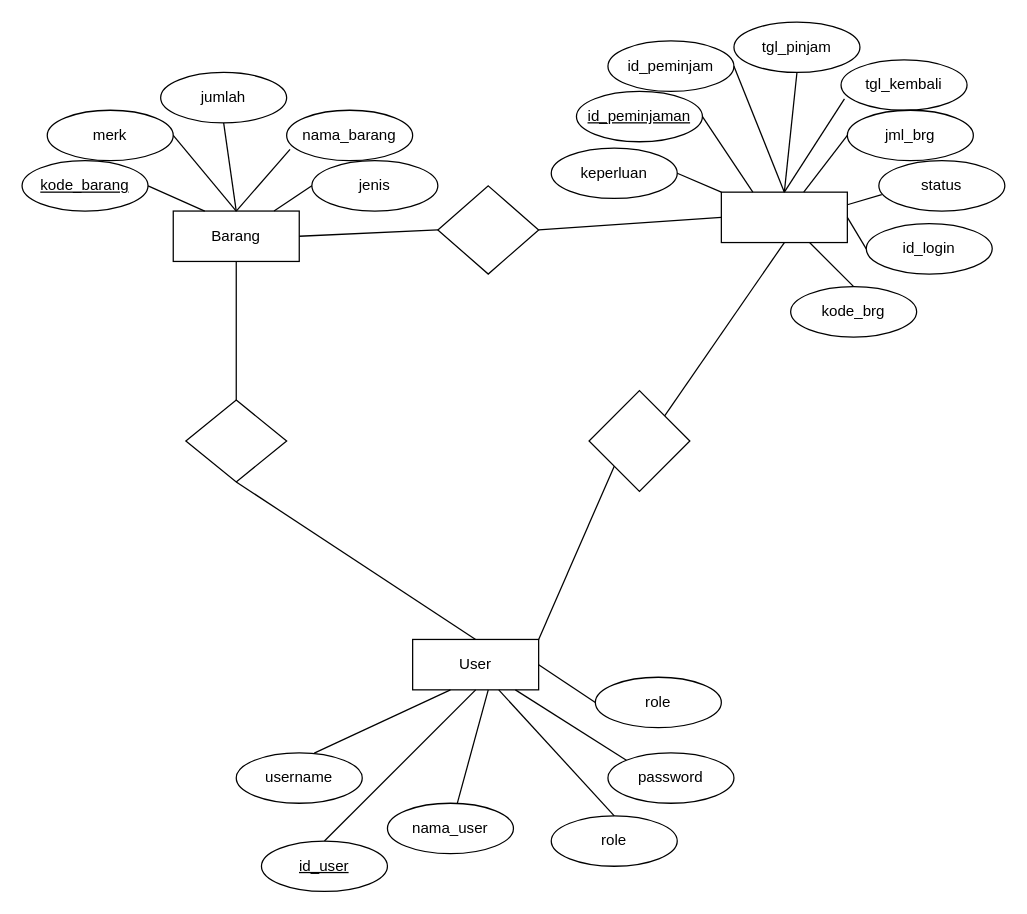
This 1027x914 diagram has some shape labels left out. Here are the shapes that lost their labels. From the top down, the centre of each, then its label:
the point at 488,229: memiliki
the point at 783,217: Peminjaman
the point at 236,440: meminjam
the point at 639,440: melakukan
